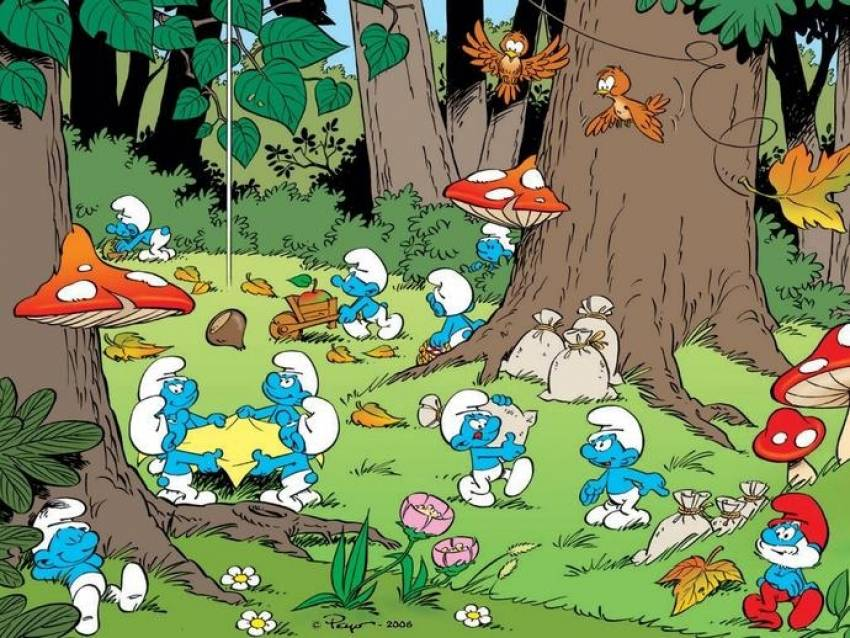smurf: (23, 497, 151, 633), (742, 491, 830, 632), (437, 388, 536, 509), (572, 403, 664, 530), (130, 399, 223, 508), (261, 394, 339, 511), (324, 248, 406, 344), (139, 353, 225, 430), (420, 265, 487, 356), (243, 348, 319, 423), (104, 192, 179, 264), (468, 220, 521, 271)
